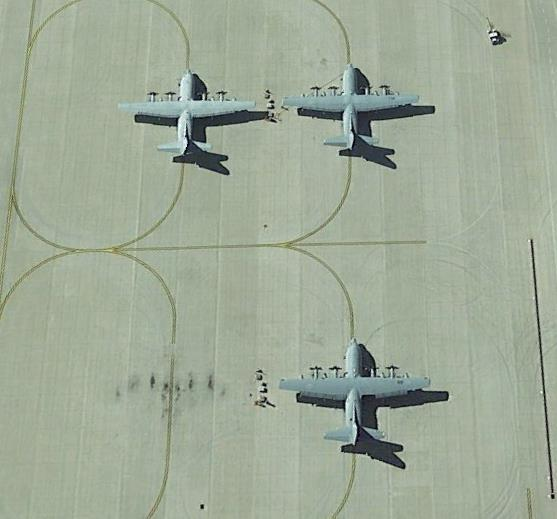C-130: (275, 337, 435, 454), (276, 60, 420, 160), (117, 68, 253, 164)
